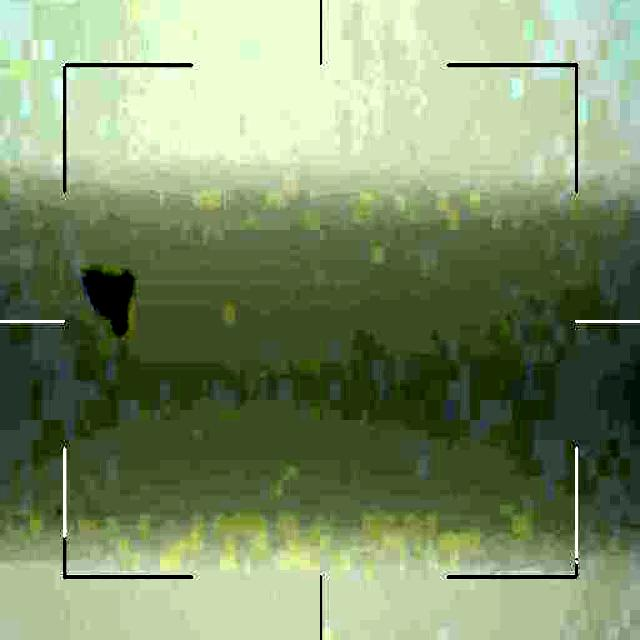bird: (89, 264, 142, 339)
